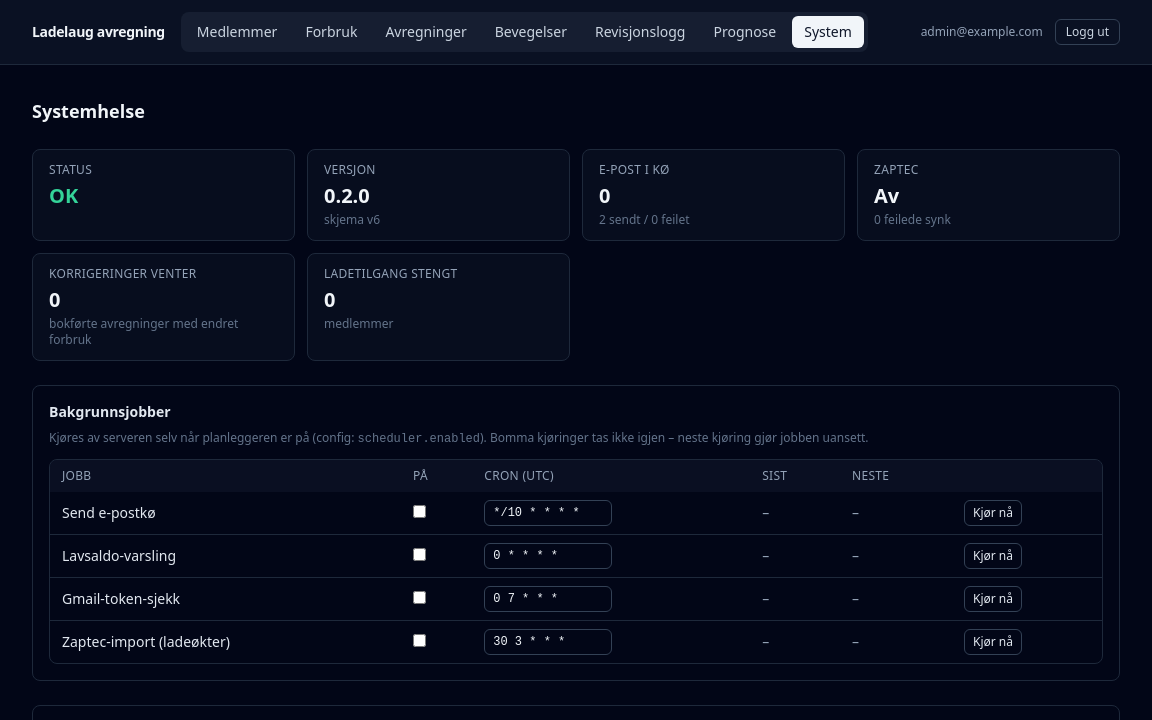
SystemHealth (admin) › can run a background job on demand
Click the 1st button "Kjør nå" at {"x": 993, "y": 513}, box [964,500,1022,526]
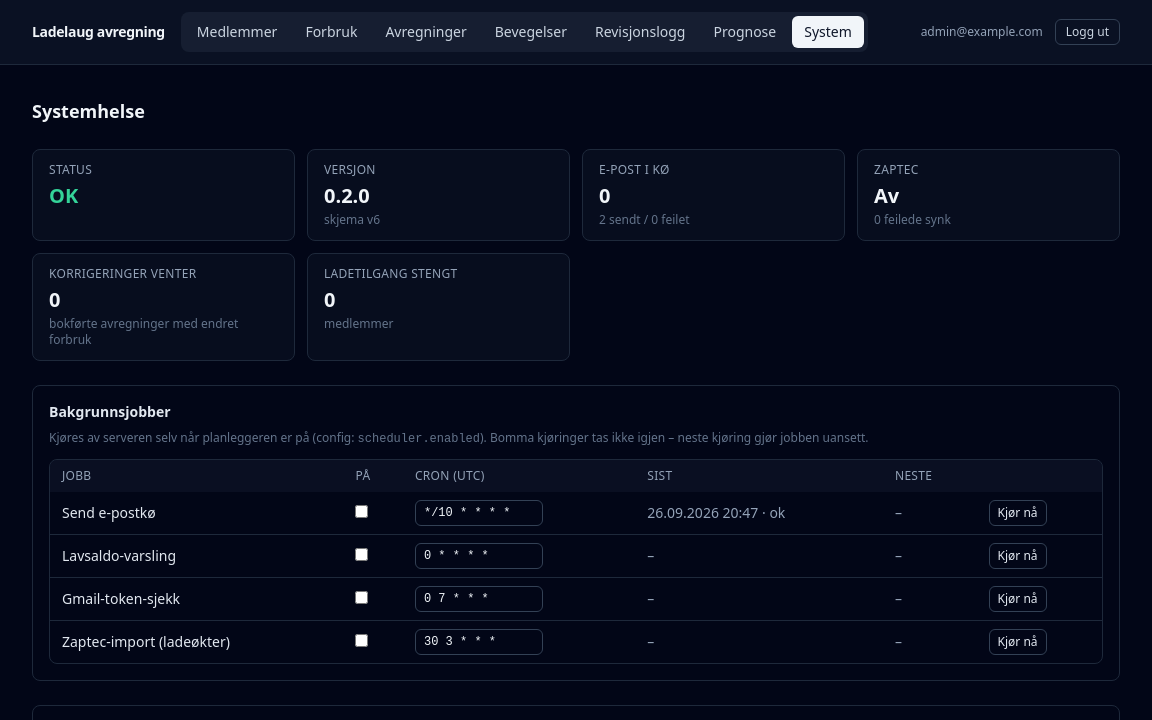
Expected: the text "26.09.2026 20:47 · ok" is shown, [647,503,785,522]
